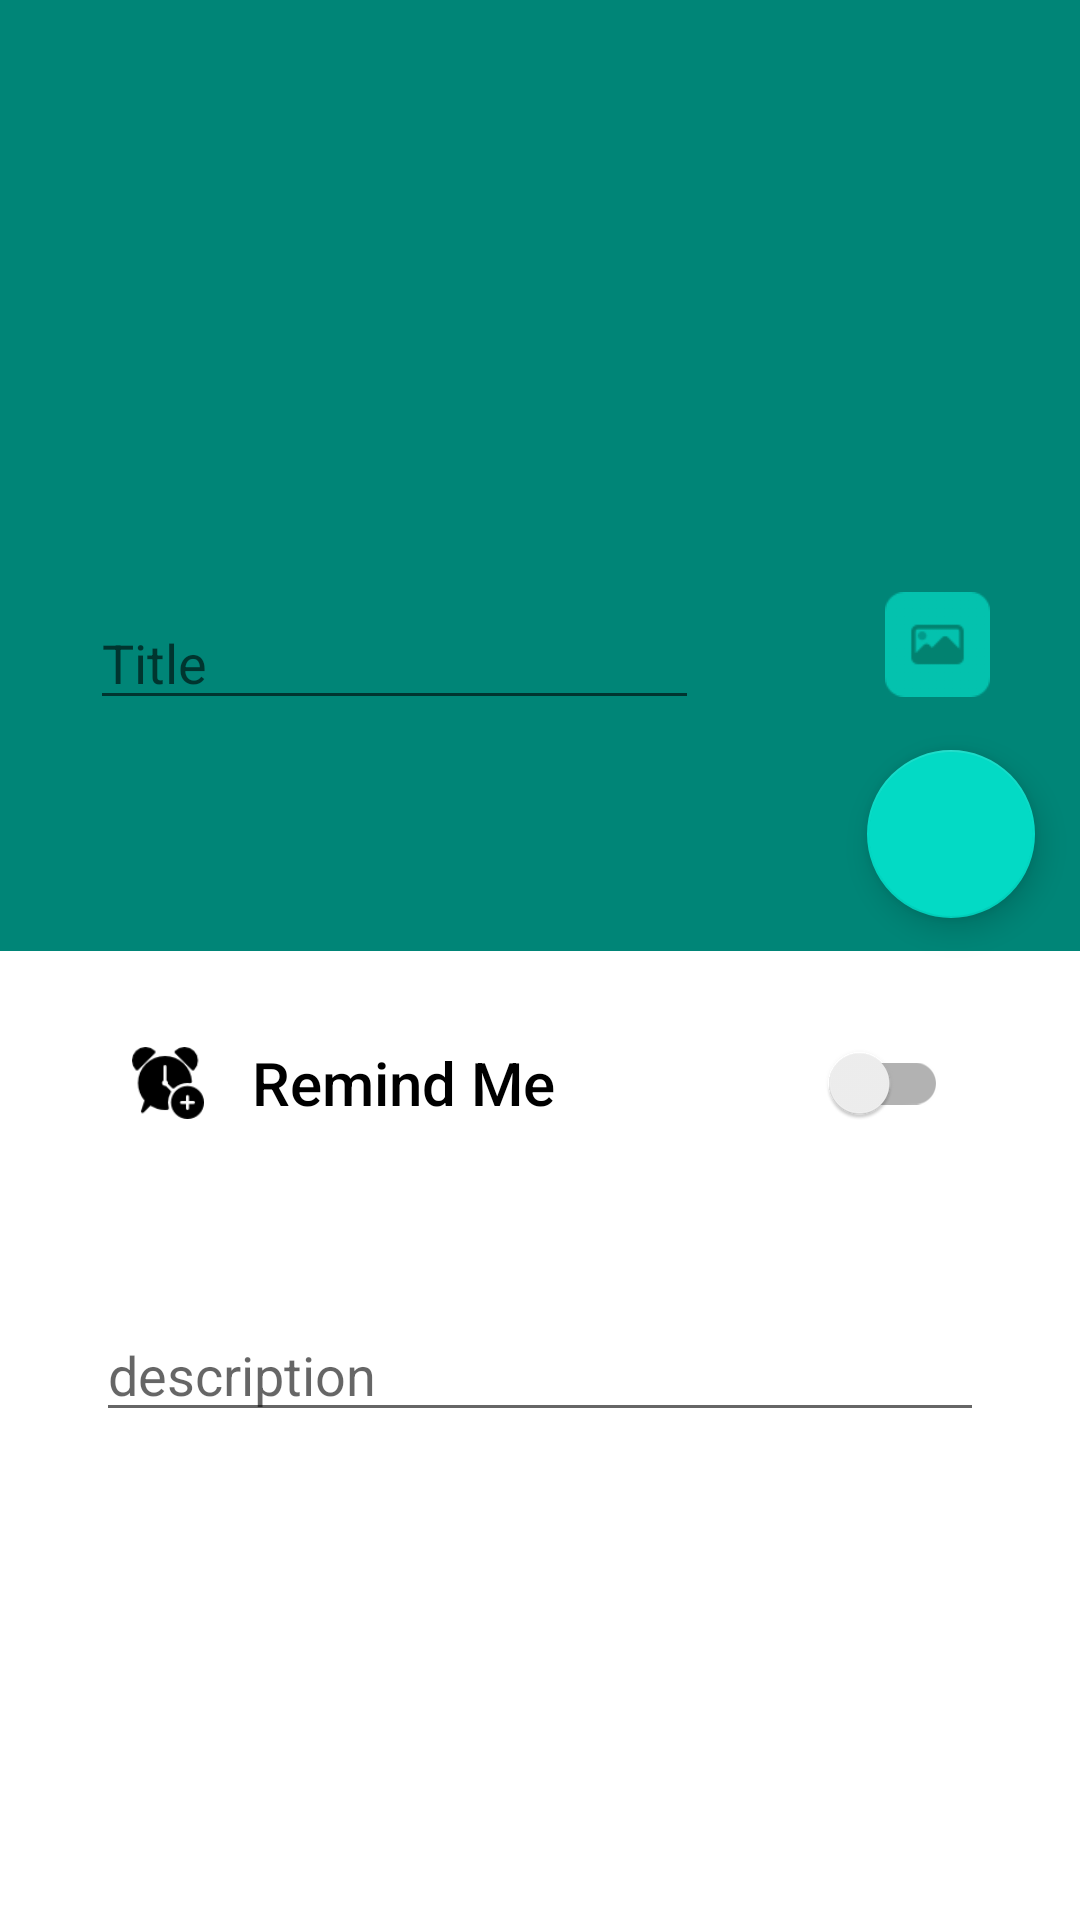

Screen size 1080 × 1920. Icon name, then its center in pixels as point (x, y):
alarm add: point (168, 1083)
